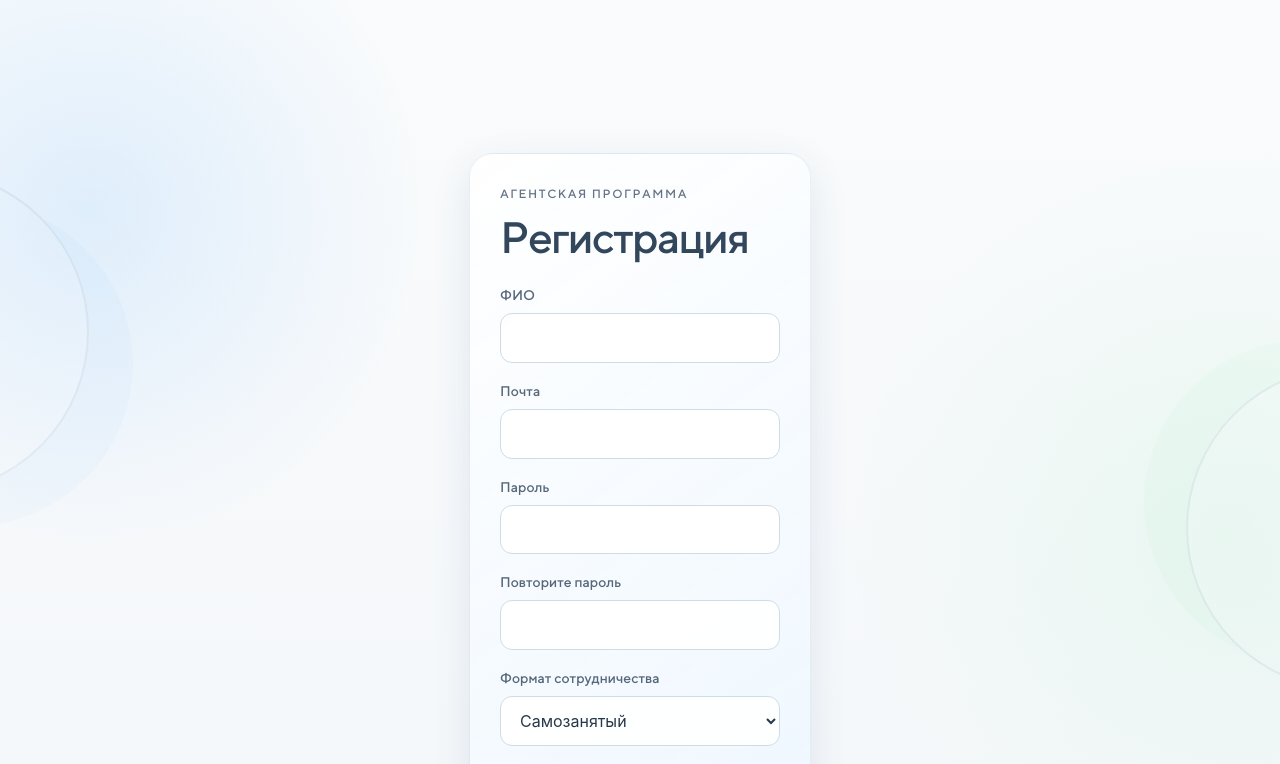
Test case: registration › stays on the form and shows the backend validation message
In the field labelled "ФИО": x=640, y=338 [500,313,780,363], type "Новый Партнёр"
In the field labelled "Почта": x=640, y=434 [500,409,780,458], type "new@example.com"
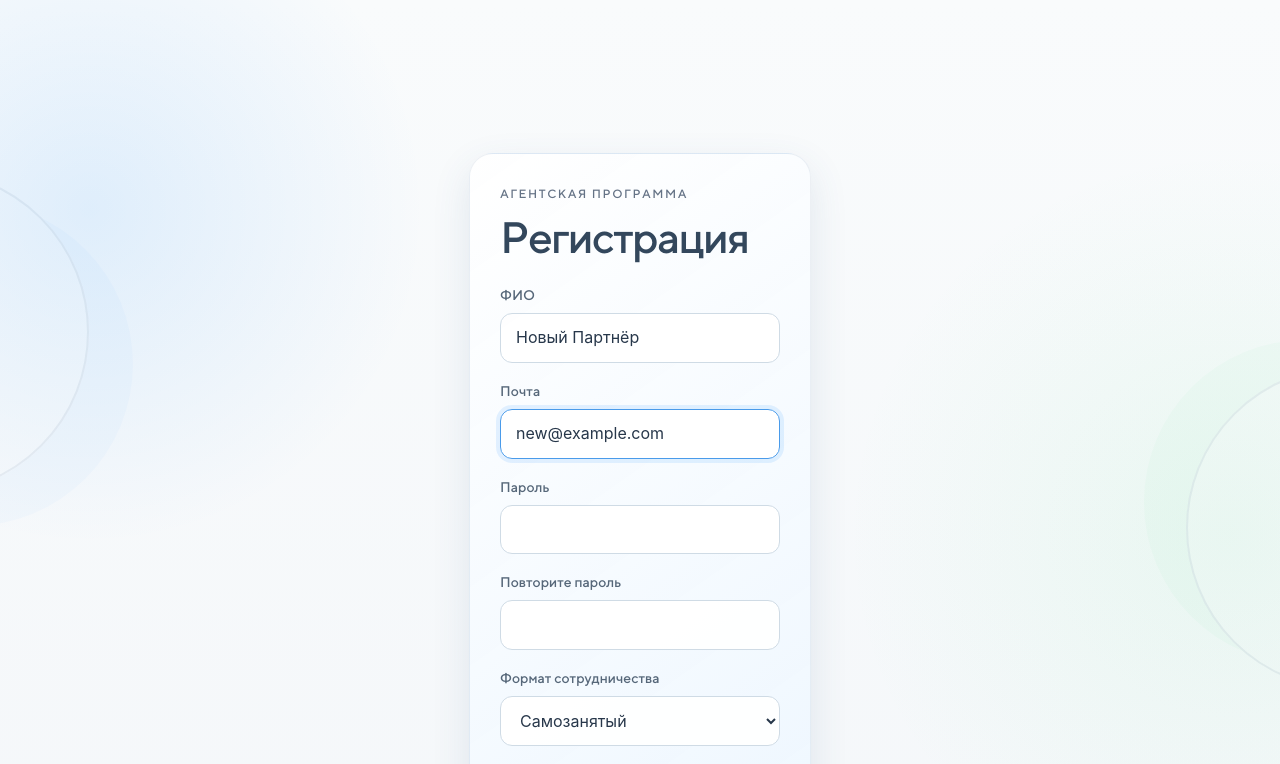
In the password field labelled "Пароль": x=640, y=529 [500,504,780,554], type "secret1"
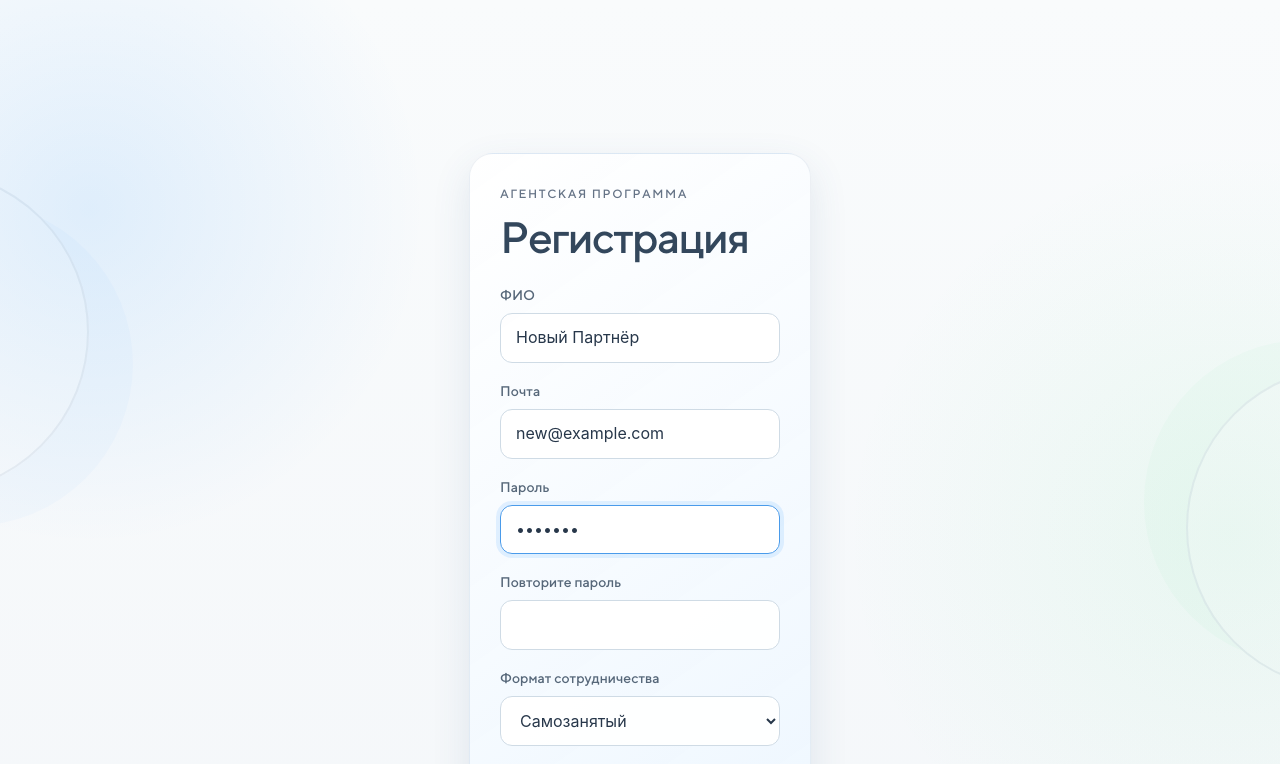
In the password field labelled "Повторите пароль": x=640, y=625 [500,600,780,650], type "secret2"
(page scrolled)
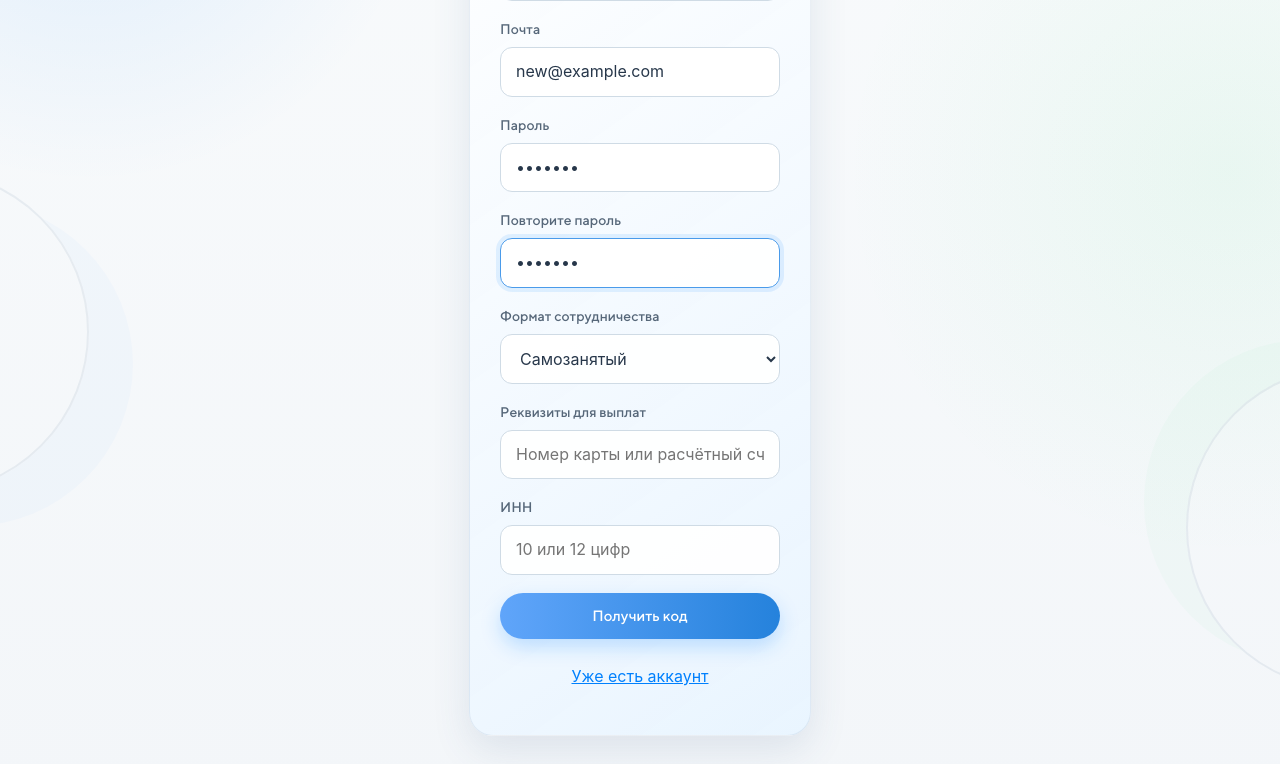
In the field labelled "Реквизиты для выплат": x=640, y=454 [500,430,780,479], type "Карта 2200"
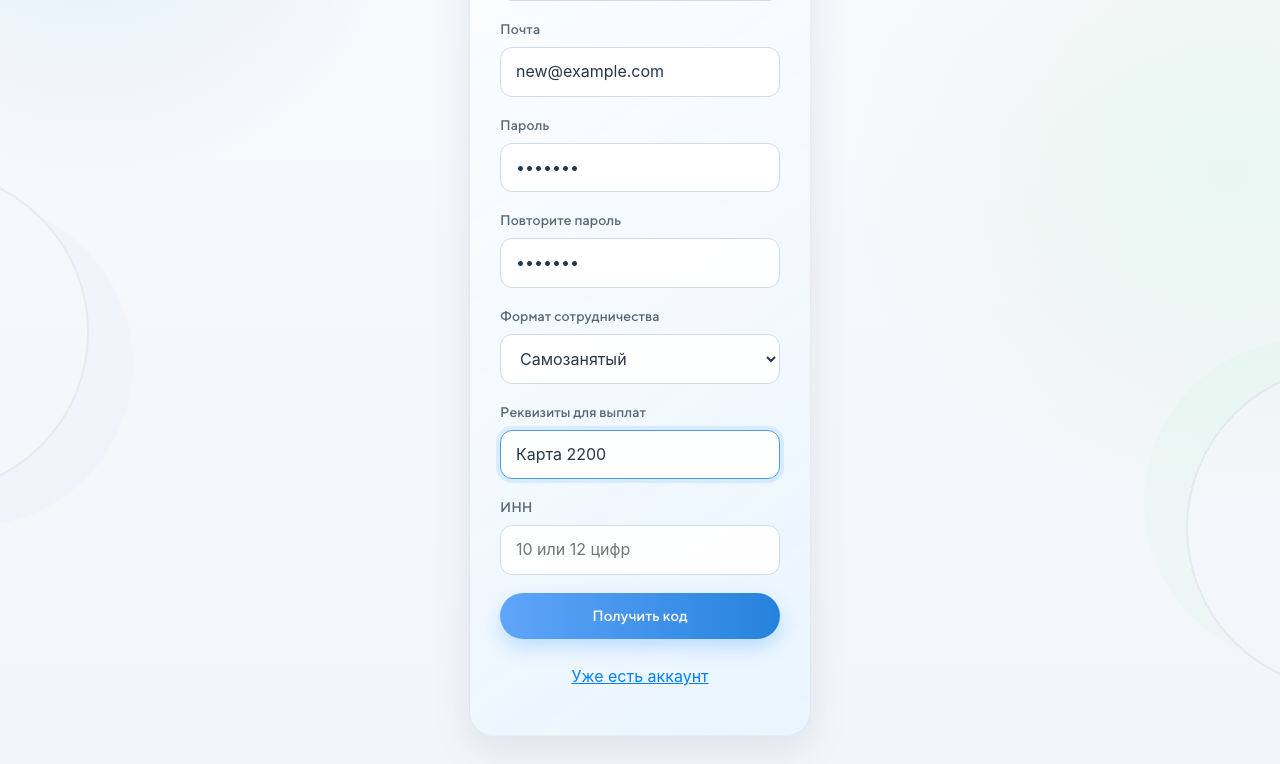
In the field labelled "ИНН": x=640, y=550 [500,525,780,575], type "123456789012"
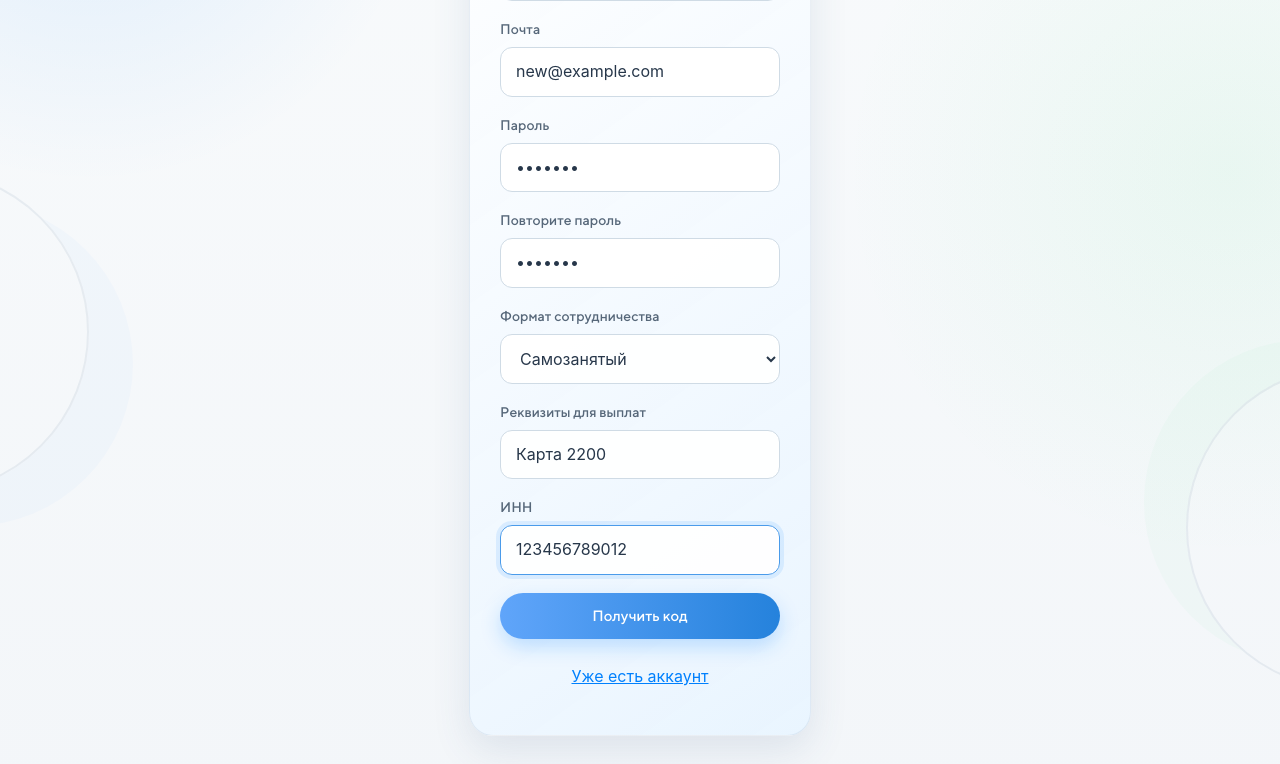
Click the button "Получить код": x=640, y=616 [500,593,780,639]
(page scrolled)
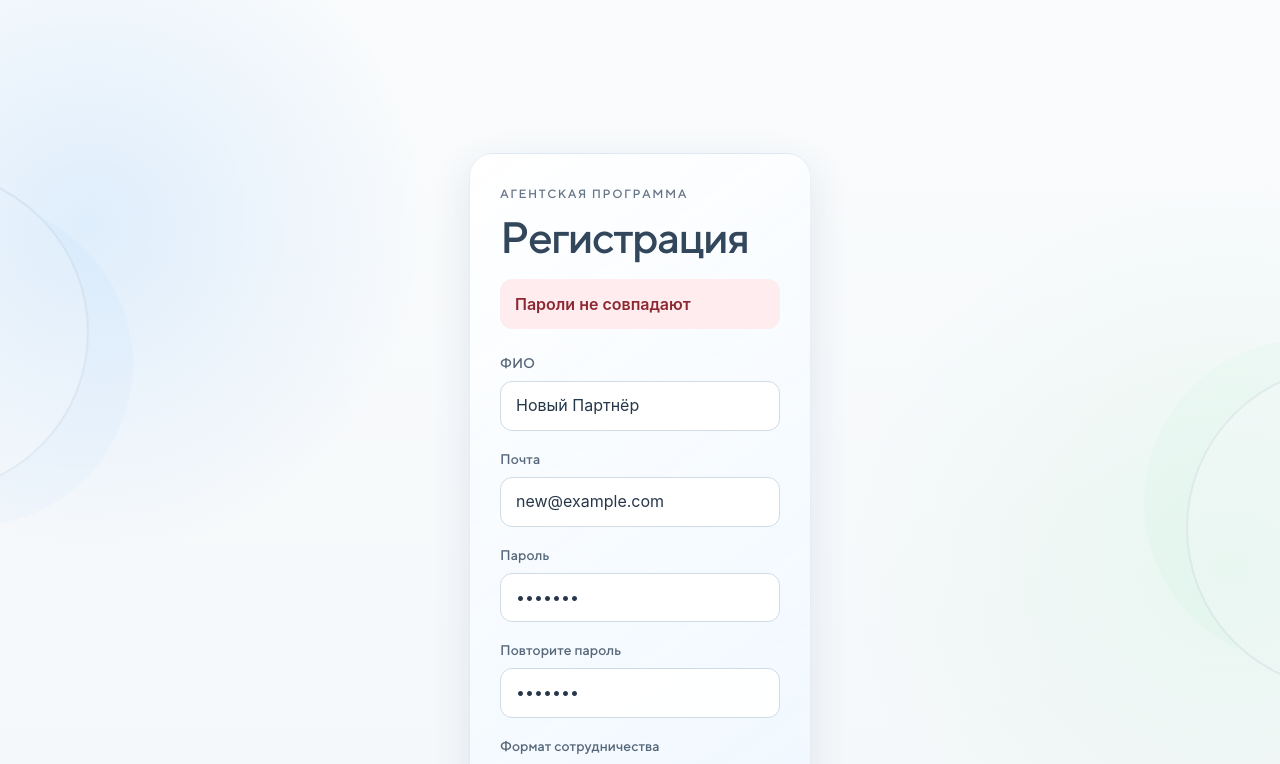
expect the message reads "Пароли не совпадают": met, box [515,294,691,314]
